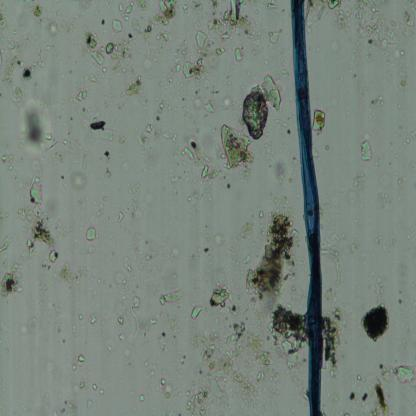Background material: (182, 0, 262, 83), (218, 74, 284, 171), (246, 210, 300, 304), (85, 2, 149, 72), (15, 175, 62, 267), (325, 0, 398, 58), (221, 320, 273, 398), (183, 332, 222, 416), (268, 303, 308, 356), (20, 100, 56, 153), (180, 137, 217, 183), (379, 47, 414, 95), (1, 54, 35, 102), (150, 0, 177, 56), (84, 112, 126, 146), (54, 131, 87, 173), (129, 294, 159, 339), (346, 166, 368, 221), (360, 302, 390, 342), (322, 233, 343, 285), (324, 305, 340, 371), (138, 121, 178, 147), (148, 365, 176, 402), (208, 286, 237, 319), (130, 233, 158, 266), (0, 261, 24, 298), (113, 256, 134, 294), (378, 364, 416, 385), (376, 165, 394, 209), (125, 175, 144, 216), (85, 187, 110, 218), (0, 32, 31, 57), (60, 263, 86, 288), (122, 73, 145, 101), (183, 183, 213, 204), (191, 92, 217, 116), (371, 382, 389, 416), (398, 116, 416, 150), (158, 282, 182, 307), (368, 276, 388, 306), (372, 233, 398, 255), (272, 153, 288, 188), (41, 12, 65, 34), (266, 187, 287, 212), (369, 90, 385, 121), (166, 237, 184, 264), (305, 1, 324, 26), (55, 394, 78, 414), (346, 228, 363, 255), (402, 0, 416, 31), (0, 146, 16, 172), (21, 315, 39, 338), (69, 169, 87, 191), (72, 86, 91, 104), (83, 223, 99, 244), (171, 54, 183, 81), (360, 139, 374, 162), (101, 336, 117, 356), (102, 152, 112, 184), (34, 46, 46, 71), (311, 112, 326, 132), (70, 352, 85, 372), (117, 316, 127, 344), (32, 0, 44, 23), (156, 98, 168, 121), (346, 370, 364, 384), (170, 167, 182, 188), (191, 304, 203, 323), (266, 29, 280, 45), (213, 230, 226, 247), (395, 169, 403, 192), (0, 13, 8, 33), (75, 381, 87, 394), (360, 392, 370, 404), (136, 392, 145, 405), (86, 394, 94, 407), (70, 319, 76, 336), (265, 0, 275, 10), (75, 312, 85, 322), (348, 390, 356, 402), (90, 381, 98, 392), (89, 314, 97, 325), (117, 211, 124, 222), (324, 142, 330, 153)
Cotton: (288, 0, 324, 415)
